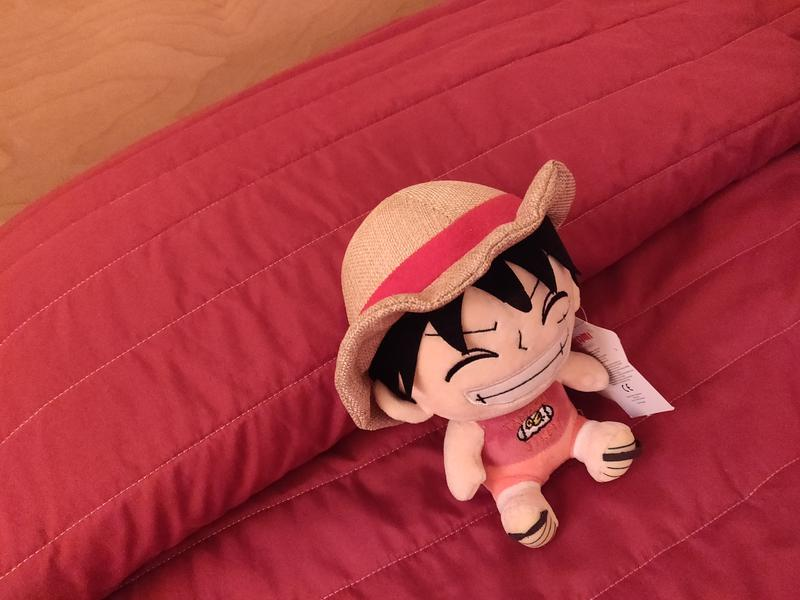rufy: (321, 154, 718, 557)
